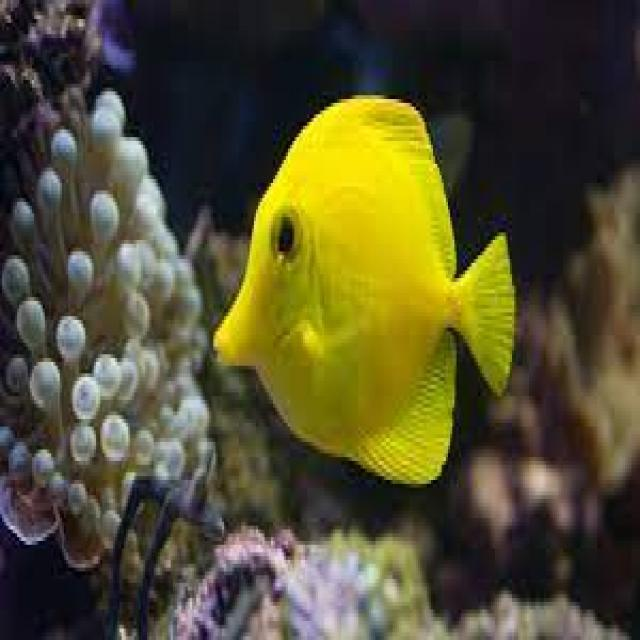TangFish: (209, 95, 519, 483)
